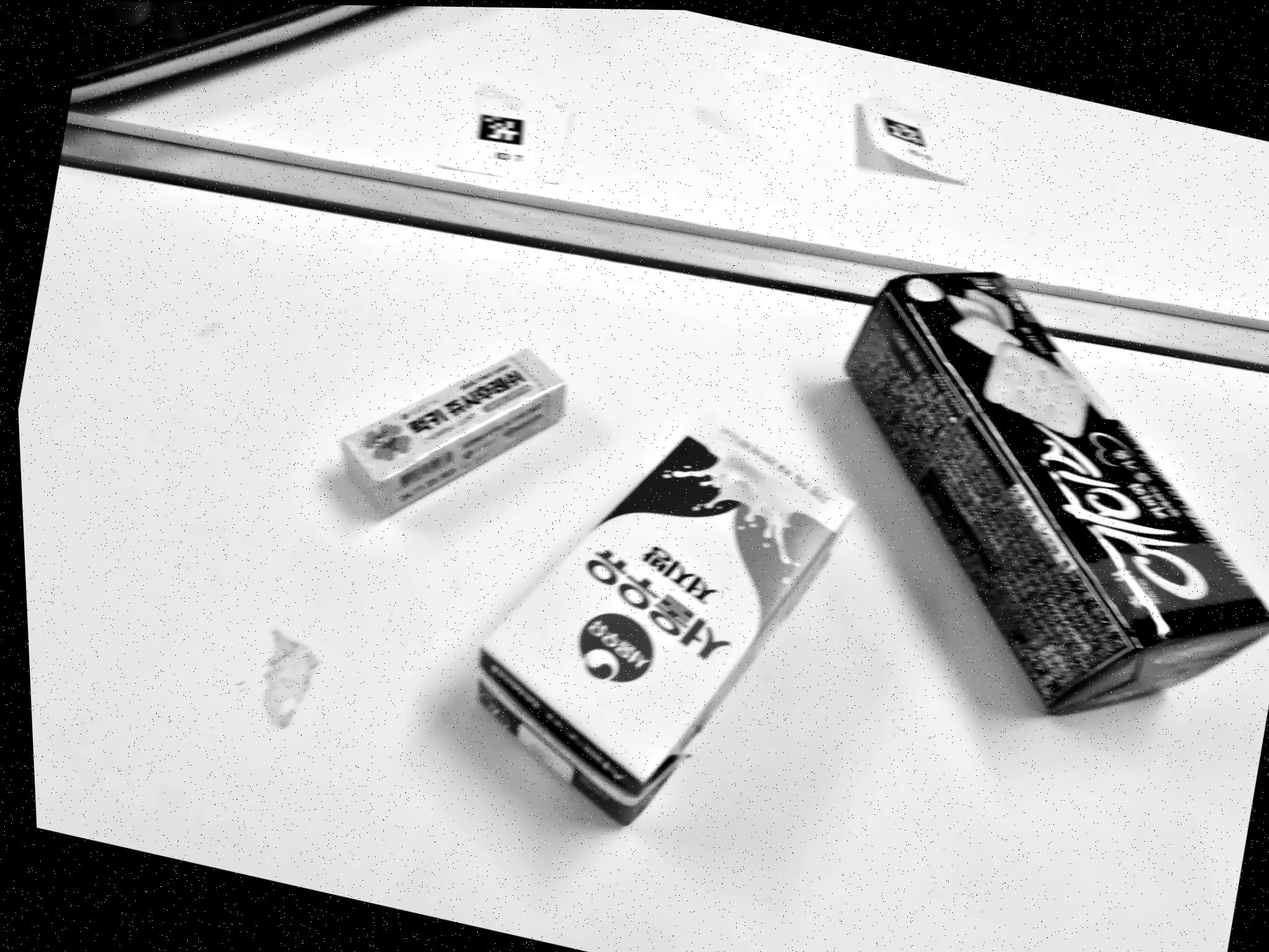cracker_ace: (846, 273, 1269, 714)
gum_yellow: (342, 350, 565, 515)
milk_blue: (478, 418, 853, 824)
